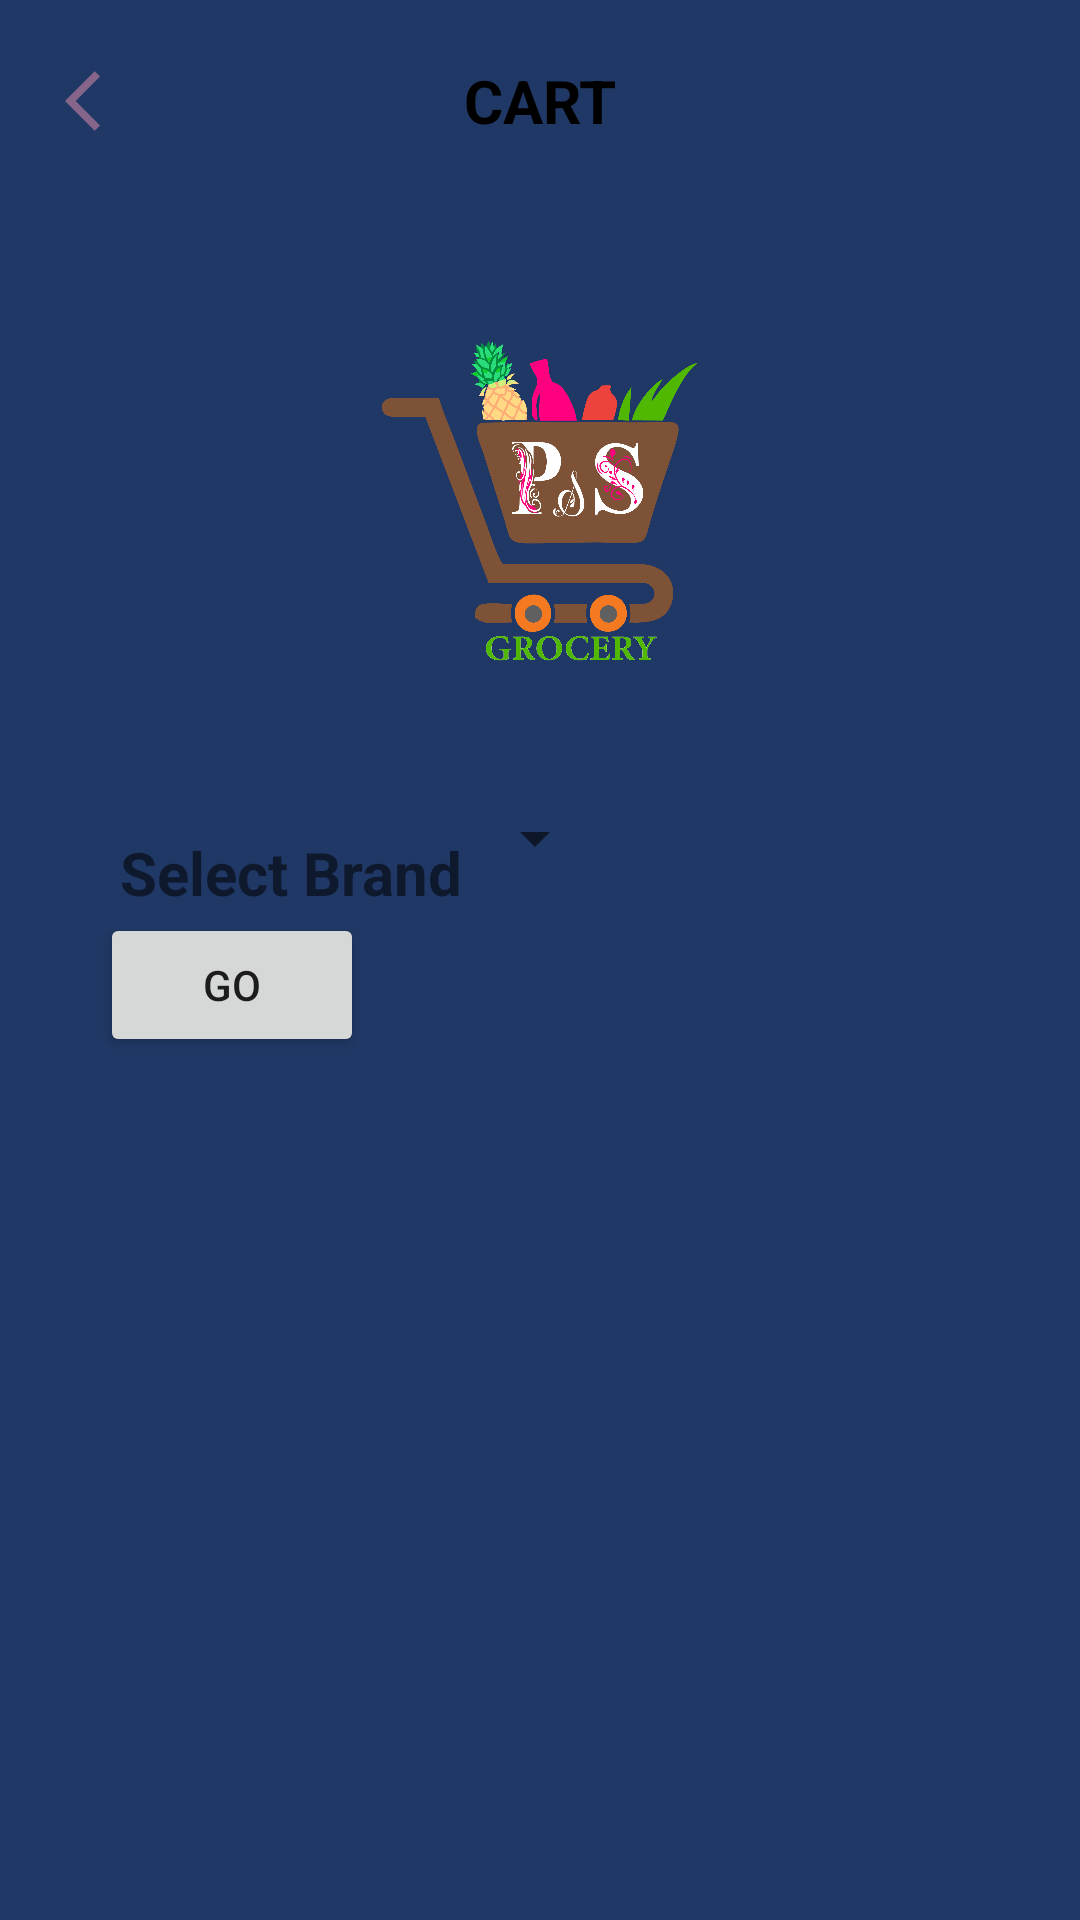

Locate icon controls on the screen. Image size 1080w x 1920h, boxes as (x1, y1, x2, y2).
back: (65, 71, 100, 131)
